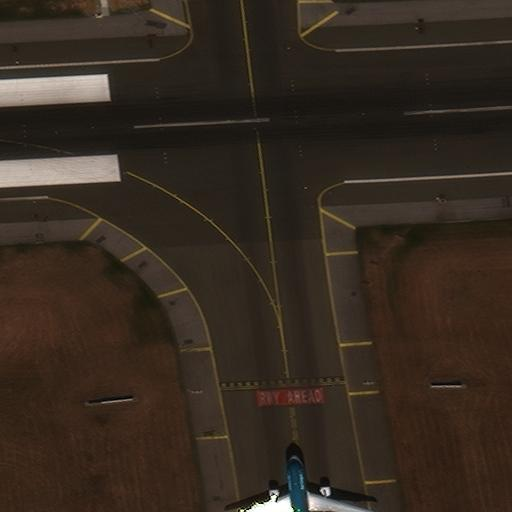Medium Civil Transport: (238, 454, 374, 511)
